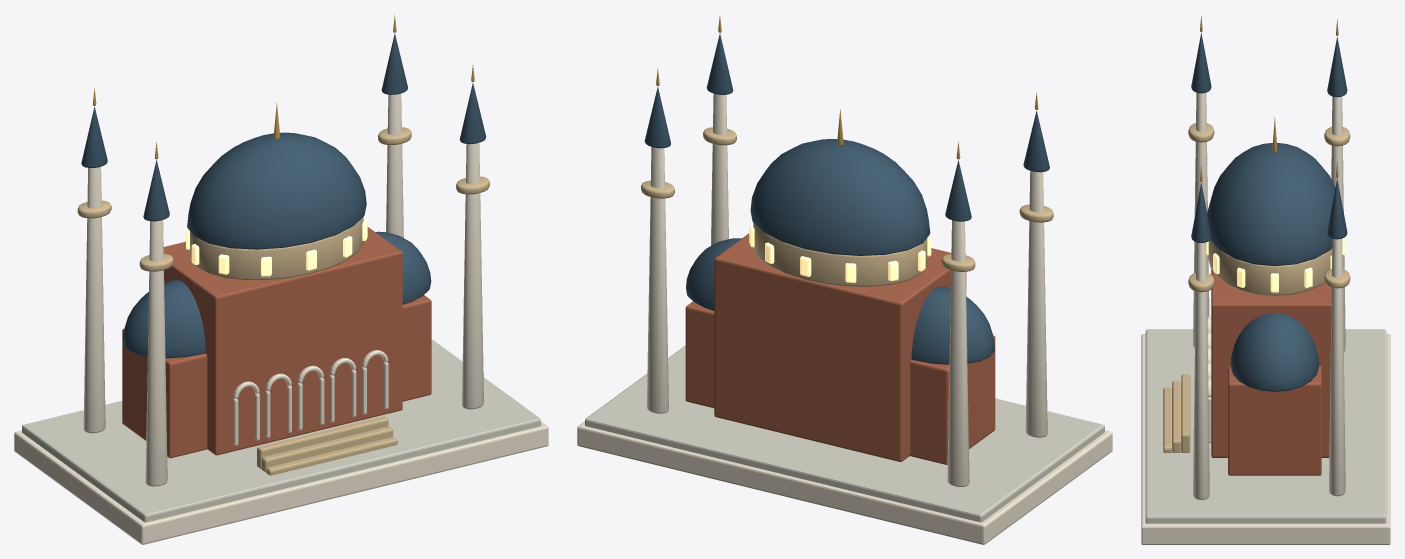
File: hagia-sophia.glb
3 views of the same model, side by side, from view 1: azimuth 30°, elevation 25°; view 2: azimuth 150°, elevation 25°; view 3: azimuth 270°, elevation 25° (orthographic). The views are drawn at different scales.
Parts seen in each view (by area): view 1: Hagia Sophia; view 2: Hagia Sophia; view 3: Hagia Sophia.
Part boxes in pixels (<box>): Hagia Sophia: <box>14,14,548,544</box>; Hagia Sophia: <box>577,15,1112,544</box>; Hagia Sophia: <box>1141,16,1390,544</box>.
Bounding box in the file's own units: 1.47 × 1.28 × 0.8064.
